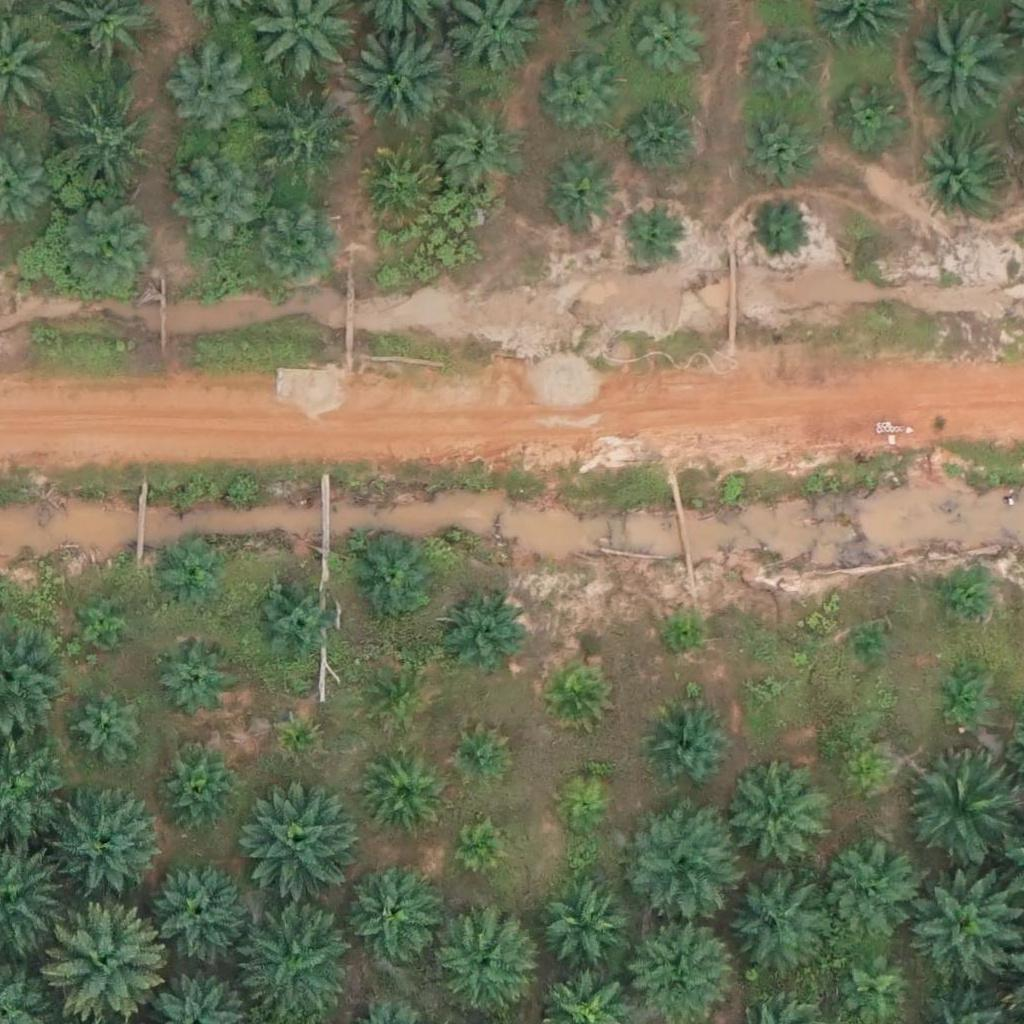Kelapa_Sawit: (243, 780, 356, 894), (44, 905, 157, 1019), (902, 748, 1015, 861), (907, 880, 1020, 993), (344, 23, 457, 136), (623, 803, 735, 917), (53, 788, 165, 901), (44, 92, 156, 205), (730, 771, 830, 872), (151, 861, 251, 962), (251, 85, 351, 186), (824, 841, 924, 941), (731, 878, 831, 978), (432, 915, 532, 1015), (343, 863, 443, 963), (910, 14, 1010, 114), (62, 205, 162, 305), (643, 700, 731, 788), (541, 881, 629, 969), (249, 577, 337, 665), (155, 744, 243, 832), (732, 105, 820, 193), (351, 143, 439, 231), (163, 49, 251, 137), (174, 156, 261, 245), (350, 533, 437, 621), (359, 748, 446, 836), (919, 129, 1006, 217), (742, 24, 829, 112), (436, 110, 523, 198), (252, 202, 339, 290), (446, 601, 521, 677), (155, 643, 230, 719), (625, 7, 700, 83), (627, 95, 702, 171), (833, 77, 908, 152), (545, 62, 620, 137), (543, 162, 618, 237), (836, 948, 911, 1023), (157, 540, 220, 603), (546, 661, 609, 724), (616, 203, 679, 266), (78, 695, 140, 758), (749, 199, 811, 262), (369, 667, 431, 730), (556, 780, 606, 831), (939, 570, 989, 620), (934, 673, 984, 723), (458, 823, 508, 873), (453, 731, 503, 781), (80, 600, 130, 650), (848, 631, 886, 669), (662, 615, 699, 653), (838, 750, 875, 787), (277, 716, 314, 753), (751, 678, 776, 704)
